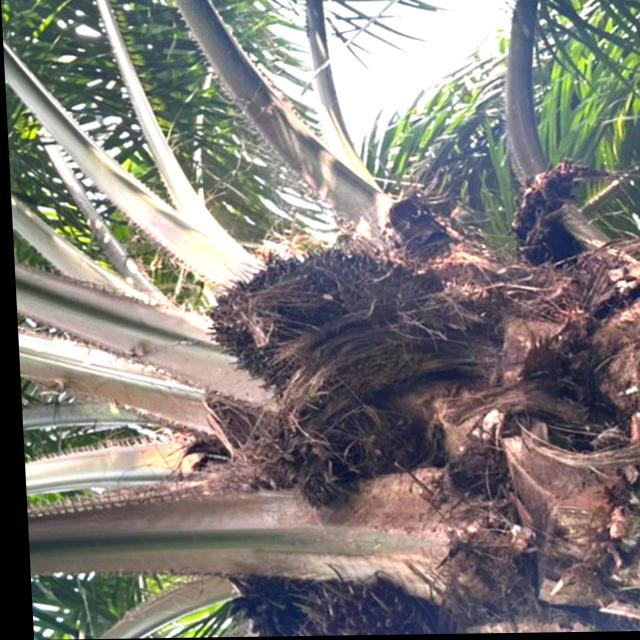unripe: (188, 234, 433, 397)
